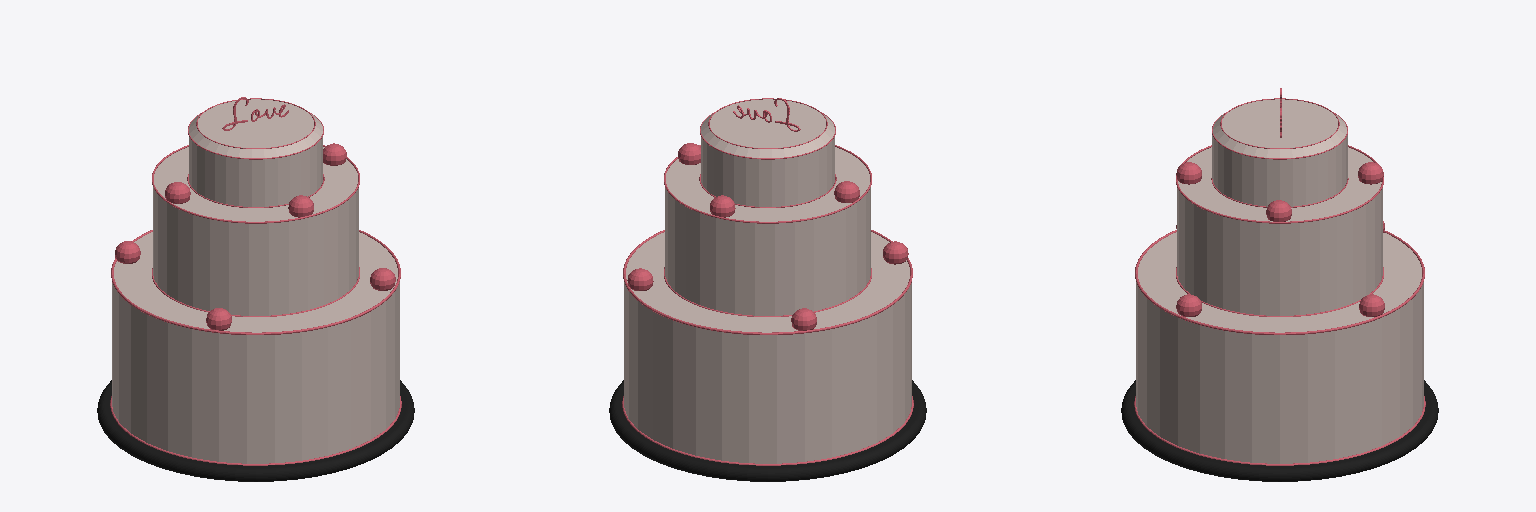
The model's file is wedding.obj.
3 views of the same model, side by side, from view 1: azimuth 30°, elevation 25°; view 2: azimuth 150°, elevation 25°; view 3: azimuth 270°, elevation 25° (orthographic).
Visible parts, largest first — view 1: Cake_3, Cake_2, Cake_1, Circle, Cream_Base_05, Cream_Base_06, Cream_Base_03; view 2: Cake_3, Cake_2, Cake_1, Circle, Cream_Base_05, Cream_Base_06, Cream_Base_03; view 3: Cake_3, Cake_2, Cake_1, Circle, Cream_Base_05, Cream_Base_06, Cream_Base_03.
Boxes of the visible parts, box(x1,y1,x2,y2) form: Cake_3: box(112, 232, 399, 463); Cake_2: box(153, 147, 358, 315); Cake_1: box(189, 99, 322, 206); Circle: box(97, 380, 414, 481); Cream_Base_05: box(111, 230, 400, 334); Cream_Base_06: box(110, 396, 401, 465); Cream_Base_03: box(152, 145, 359, 223); Cake_3: box(624, 232, 911, 463); Cake_2: box(665, 147, 870, 315); Cake_1: box(701, 99, 834, 206); Circle: box(609, 380, 926, 481); Cream_Base_05: box(623, 230, 912, 334); Cream_Base_06: box(622, 396, 913, 465); Cream_Base_03: box(664, 145, 871, 223); Cake_3: box(1136, 232, 1423, 463); Cake_2: box(1177, 147, 1382, 315); Cake_1: box(1212, 99, 1347, 206); Circle: box(1121, 380, 1438, 481); Cream_Base_05: box(1135, 230, 1424, 334); Cream_Base_06: box(1134, 396, 1425, 465); Cream_Base_03: box(1176, 145, 1383, 223).
Bounding box in the file's own units: 2.2 × 2.46 × 2.2.